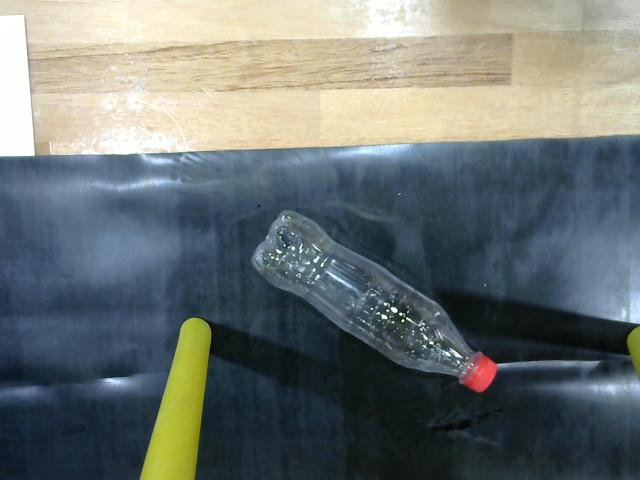bottle: (246, 206, 504, 398)
